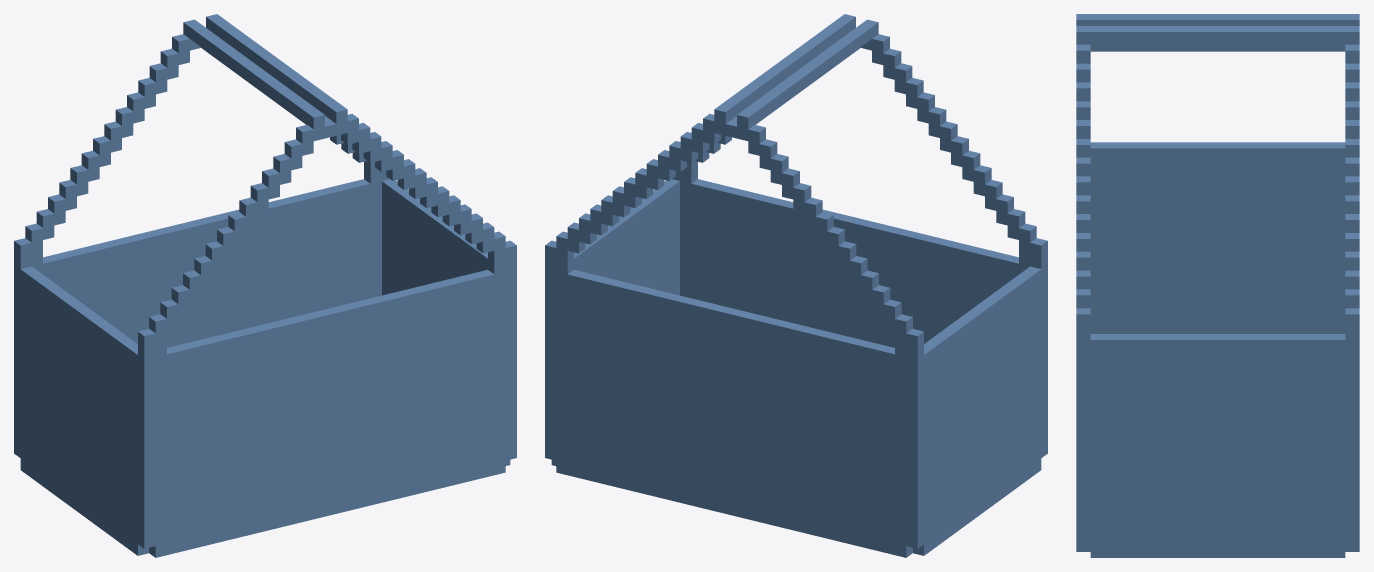
The model's file is ShoppingBag.vox.obj.
The picture shows the model from 3 angles, left to right: view 1: azimuth 30°, elevation 25°; view 2: azimuth 150°, elevation 25°; view 3: azimuth 270°, elevation 25°; orthographic projection. The views are drawn at different scales.
Bounding box in the file's own units: 3.3 × 3.4 × 2.
Materials: 1 (1 with a texture image).
